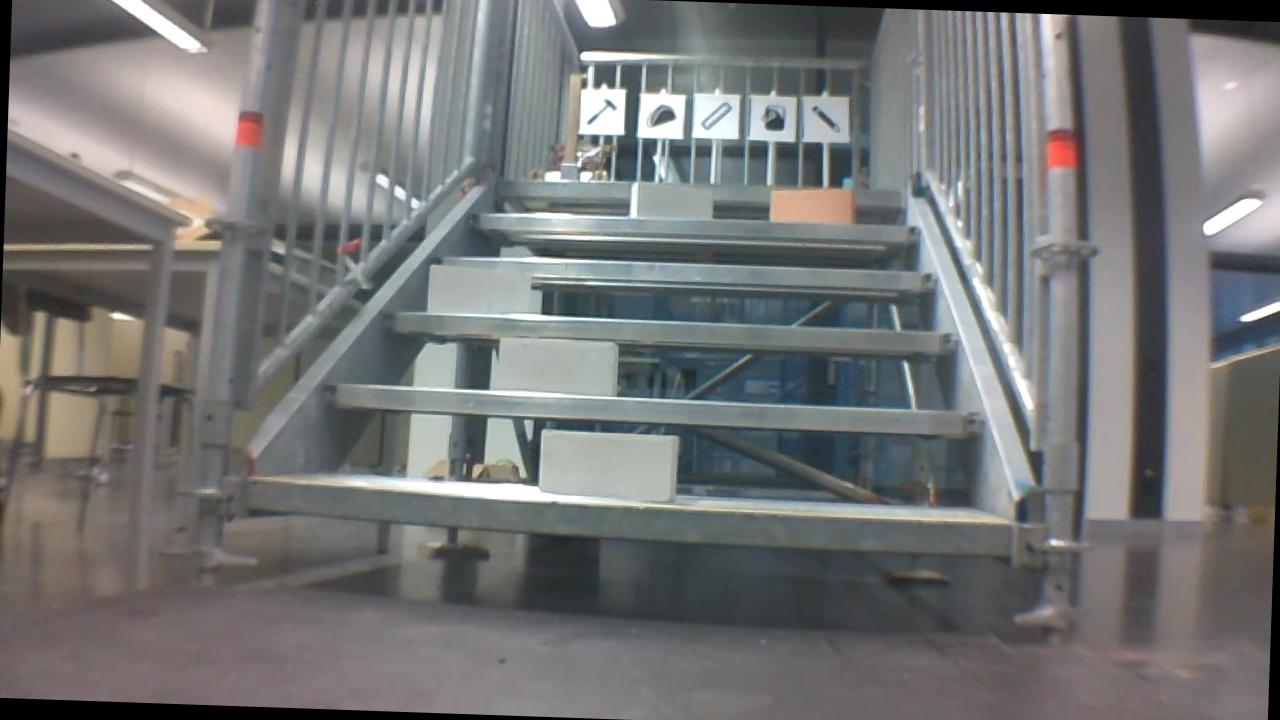brick: (538, 429, 678, 501), (499, 338, 616, 395), (426, 264, 530, 315), (768, 188, 853, 222), (631, 182, 712, 217)
bucket: (753, 101, 791, 135)
edge: (247, 480, 1011, 552), (323, 383, 980, 435), (386, 311, 958, 354), (435, 254, 939, 292), (472, 211, 927, 242), (500, 177, 902, 208)
hammer: (582, 96, 620, 129)
pencil: (804, 101, 847, 137)
ruler: (694, 98, 736, 134)
steps: (229, 162, 1030, 569)
taco: (641, 99, 680, 132)
